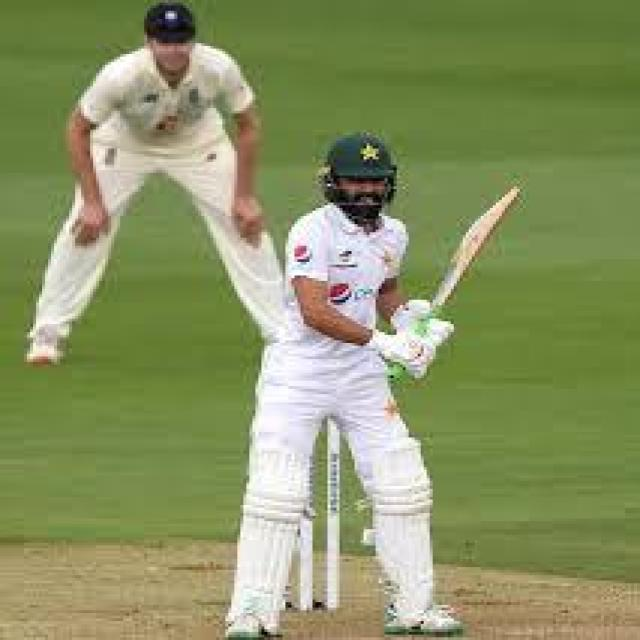bat: (431, 182, 525, 311)
toe: (493, 179, 521, 218)
